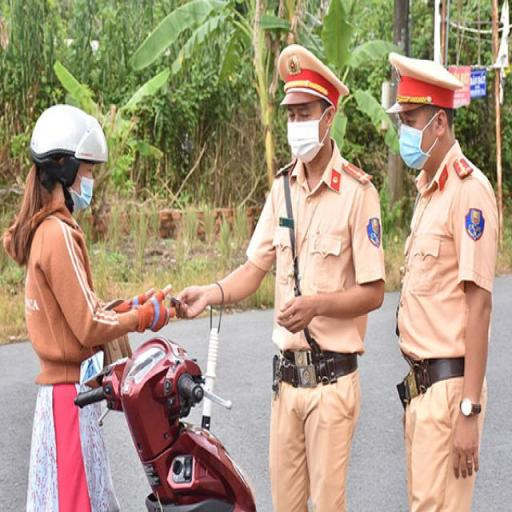with helmet: (30, 104, 110, 172)
